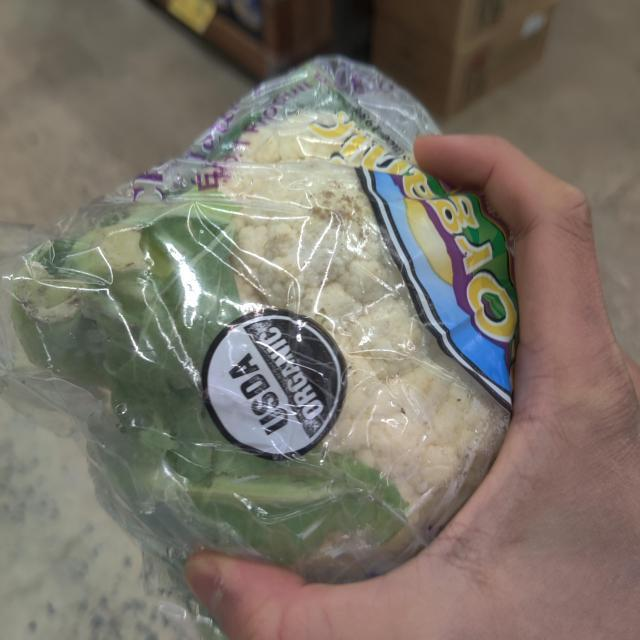Cauliflower: (19, 78, 518, 575)
